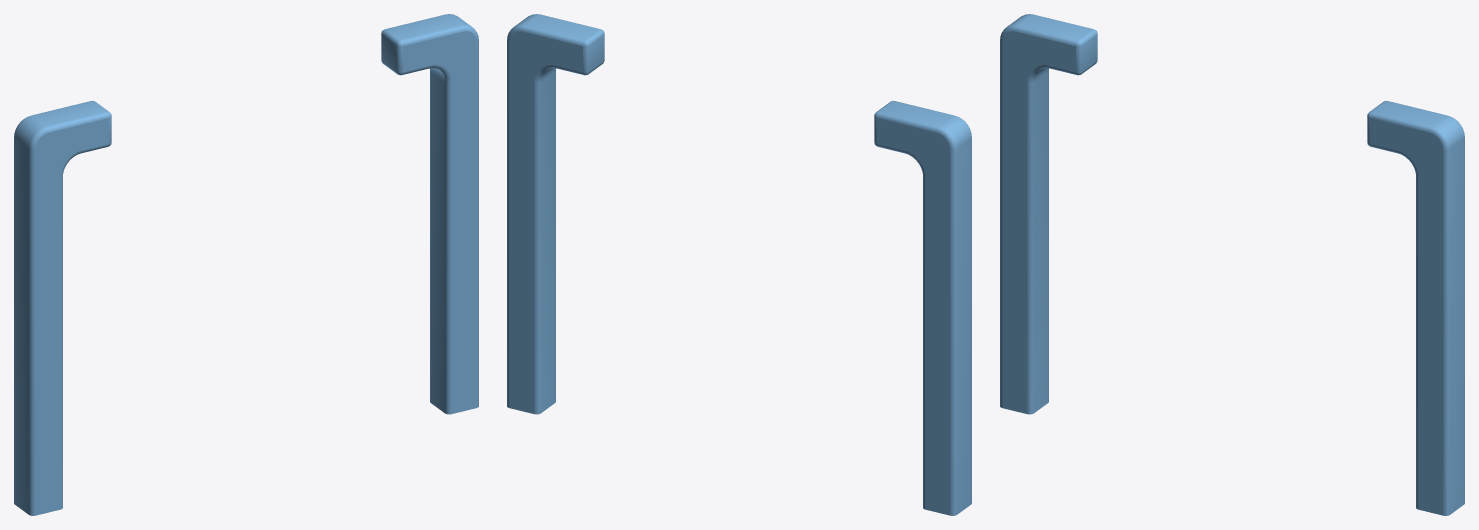
Rendered from Door.fbx.
3 renders of one model, left to right at view 1: azimuth 30°, elevation 25°; view 2: azimuth 150°, elevation 25°; view 3: azimuth 330°, elevation 25°, orthographic.
Parts seen in each view (by area): view 1: KapiSagAyak, KapiSolAyak; view 2: KapiSagAyak, KapiSolAyak; view 3: KapiSolAyak, KapiSagAyak.
Part boxes in pixels (x1,y1,x2,y2): KapiSagAyak: (14, 100, 111, 515); KapiSolAyak: (381, 14, 478, 414); KapiSagAyak: (874, 100, 971, 515); KapiSolAyak: (507, 14, 604, 414); KapiSolAyak: (1367, 100, 1464, 515); KapiSagAyak: (1000, 14, 1097, 414).
Bounding box in the file's own units: 106 × 86.76 × 7.88.
